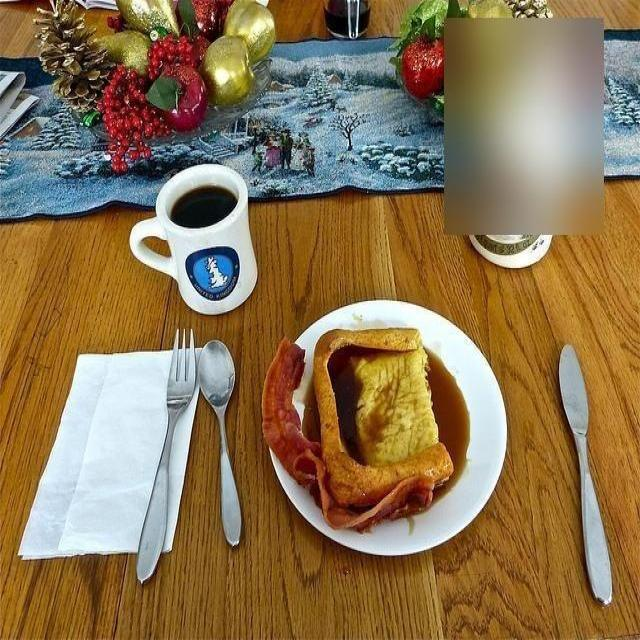cup-handle: (129, 166, 258, 318)
